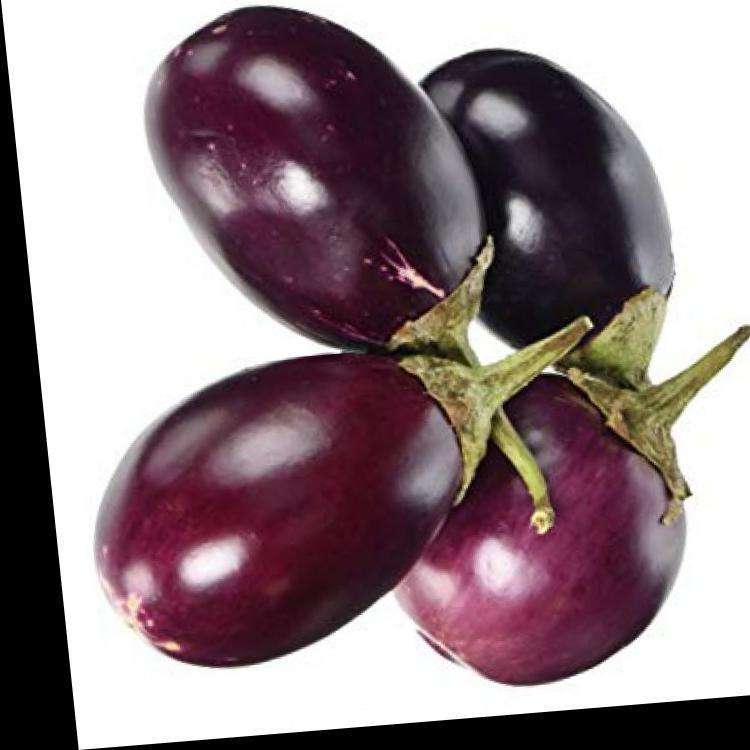eggplant: (30, 333, 578, 703), (71, 0, 509, 375), (372, 343, 749, 708), (438, 0, 749, 409)
